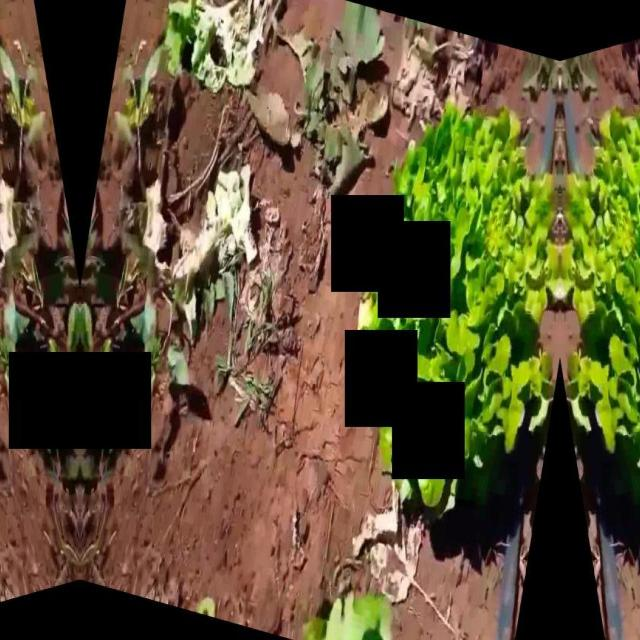healthy: (352, 109, 552, 524), (567, 108, 640, 523)
